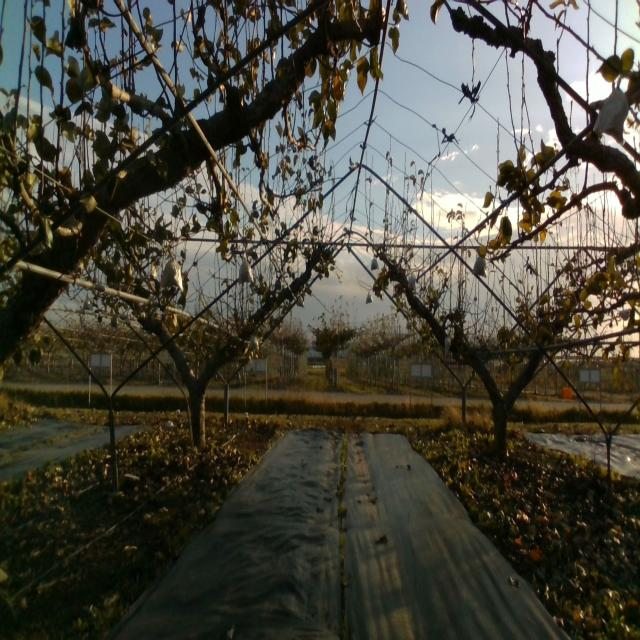pearbags: (592, 74, 629, 141), (159, 249, 184, 293), (238, 256, 254, 284), (473, 256, 487, 277)
